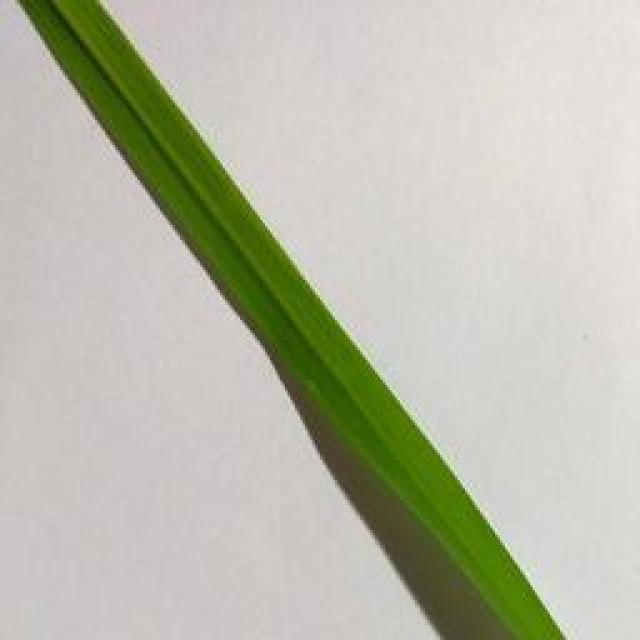Healthy-Plant: (294, 405, 517, 533), (208, 290, 419, 416), (384, 514, 572, 640), (136, 190, 336, 308), (69, 94, 258, 202), (17, 0, 189, 105)
